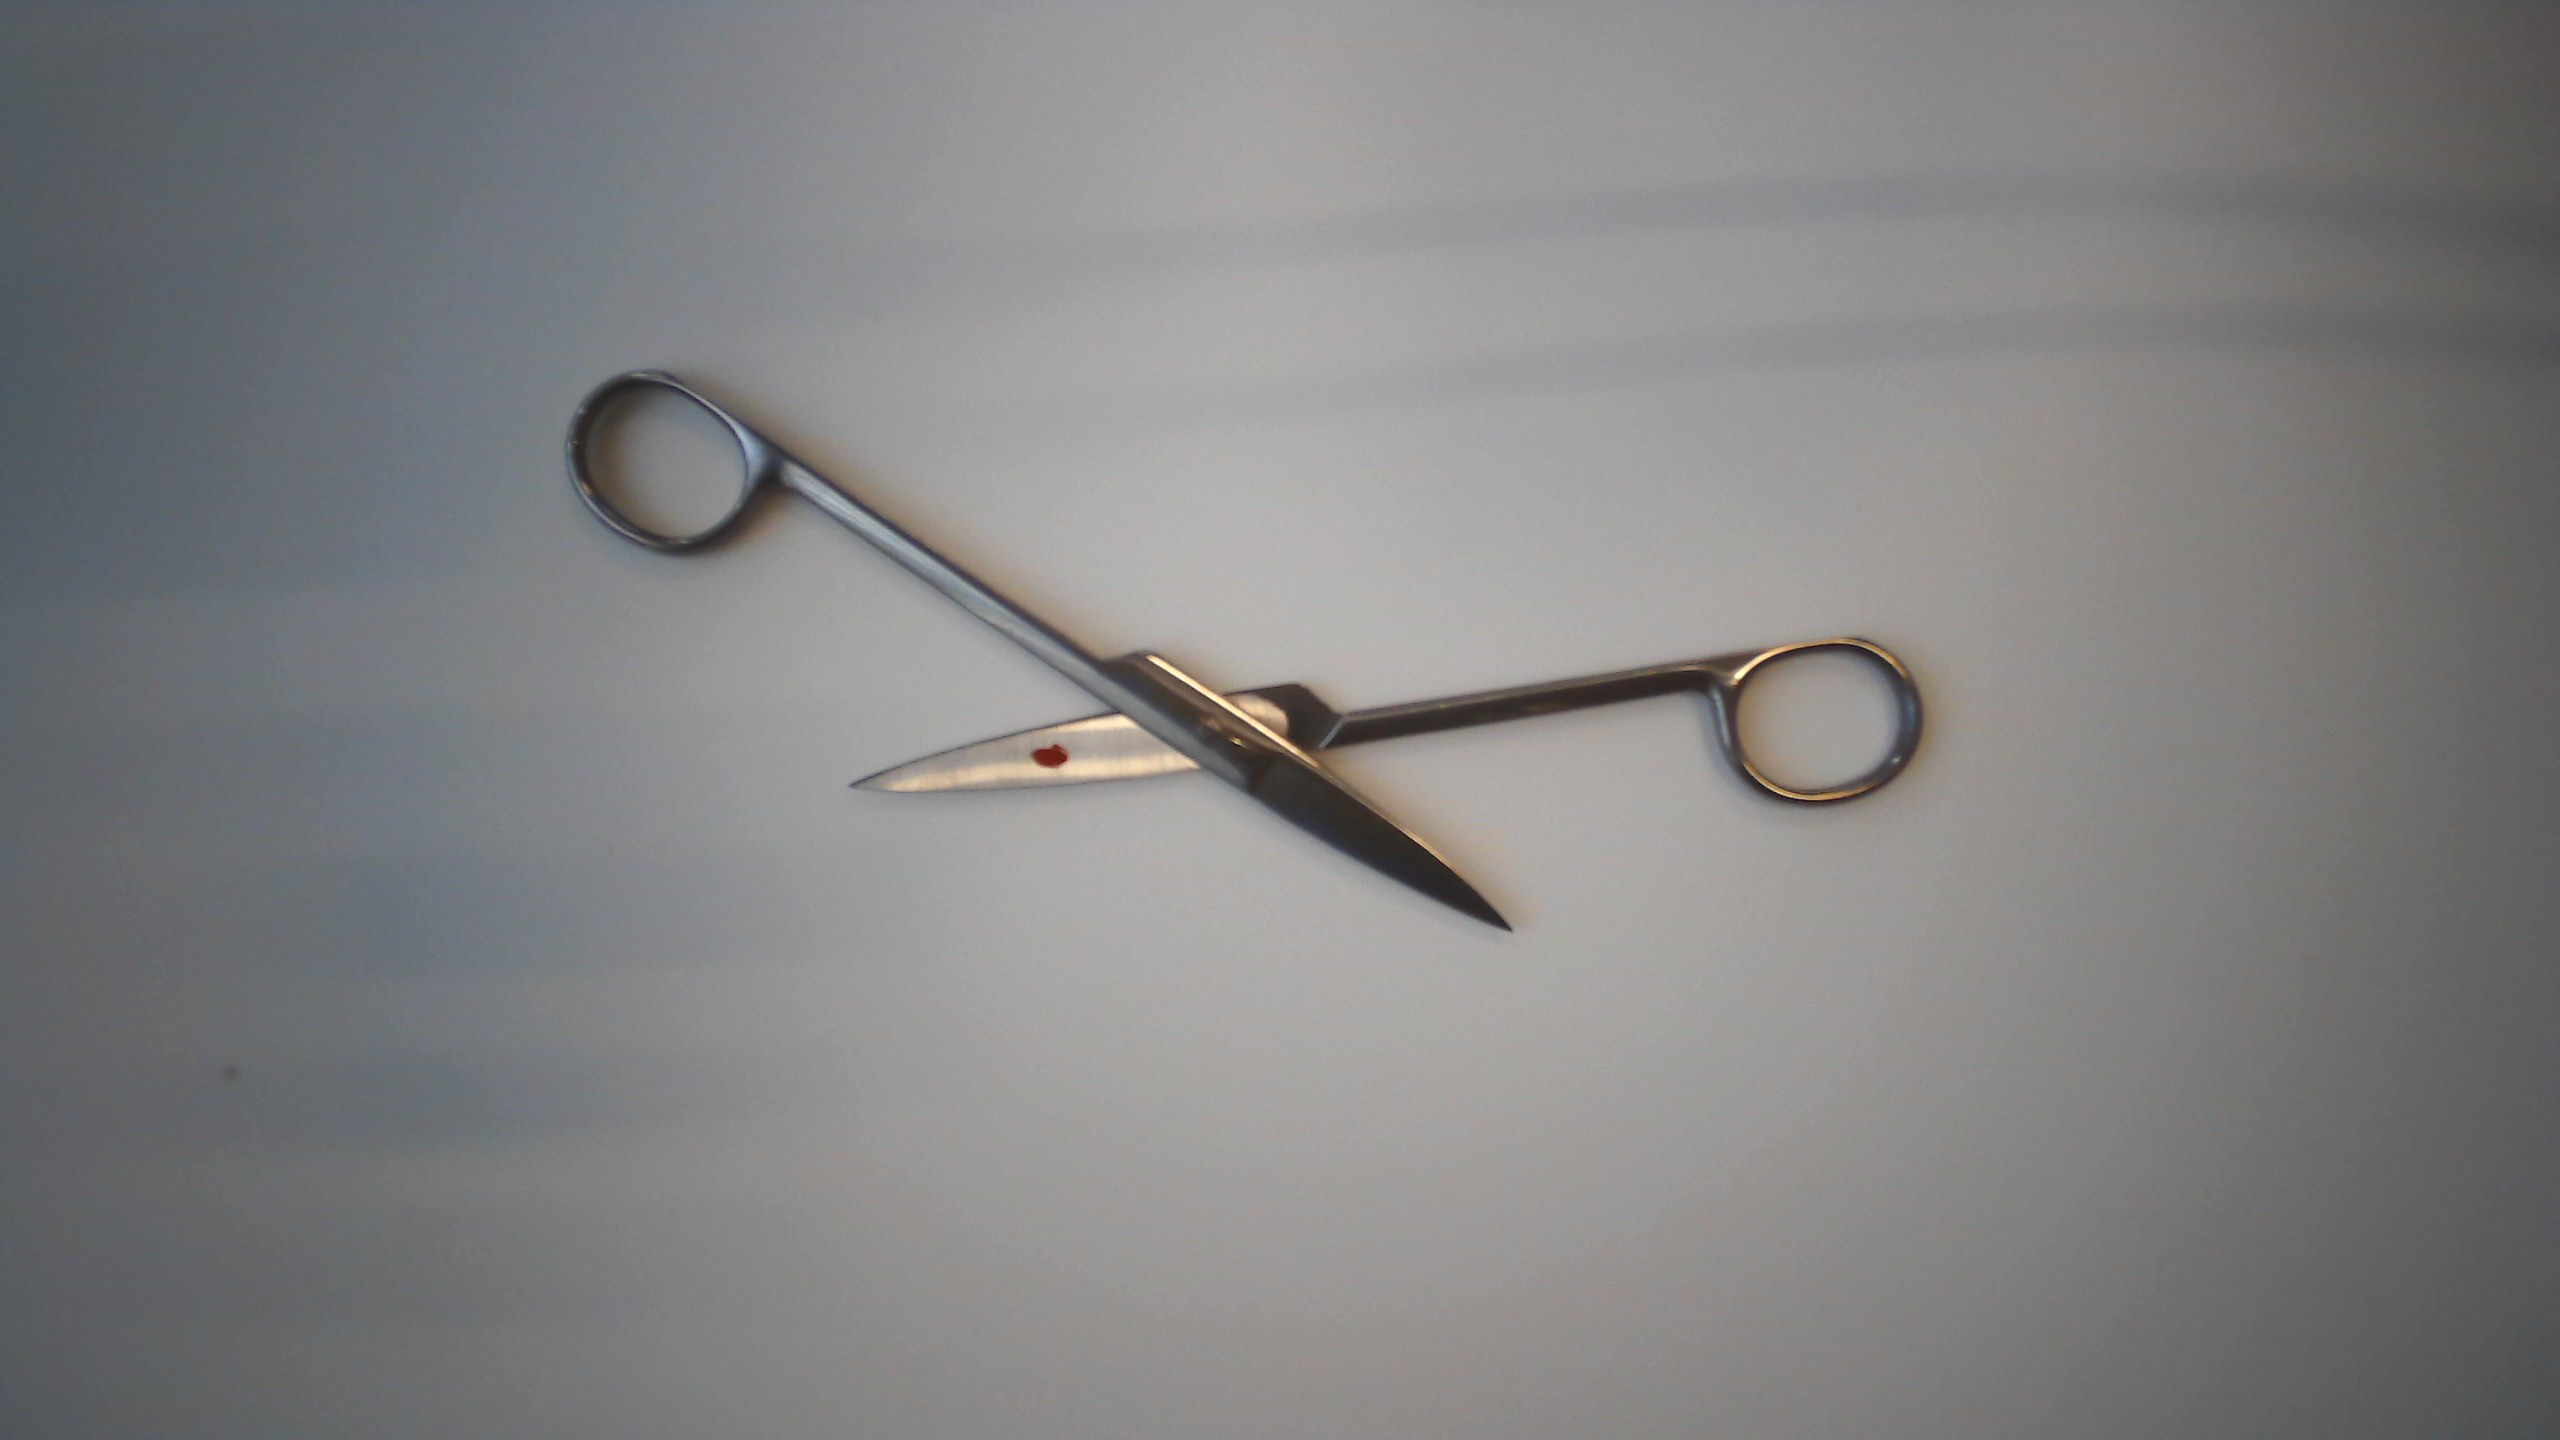Stain: (1015, 745, 1083, 774)
